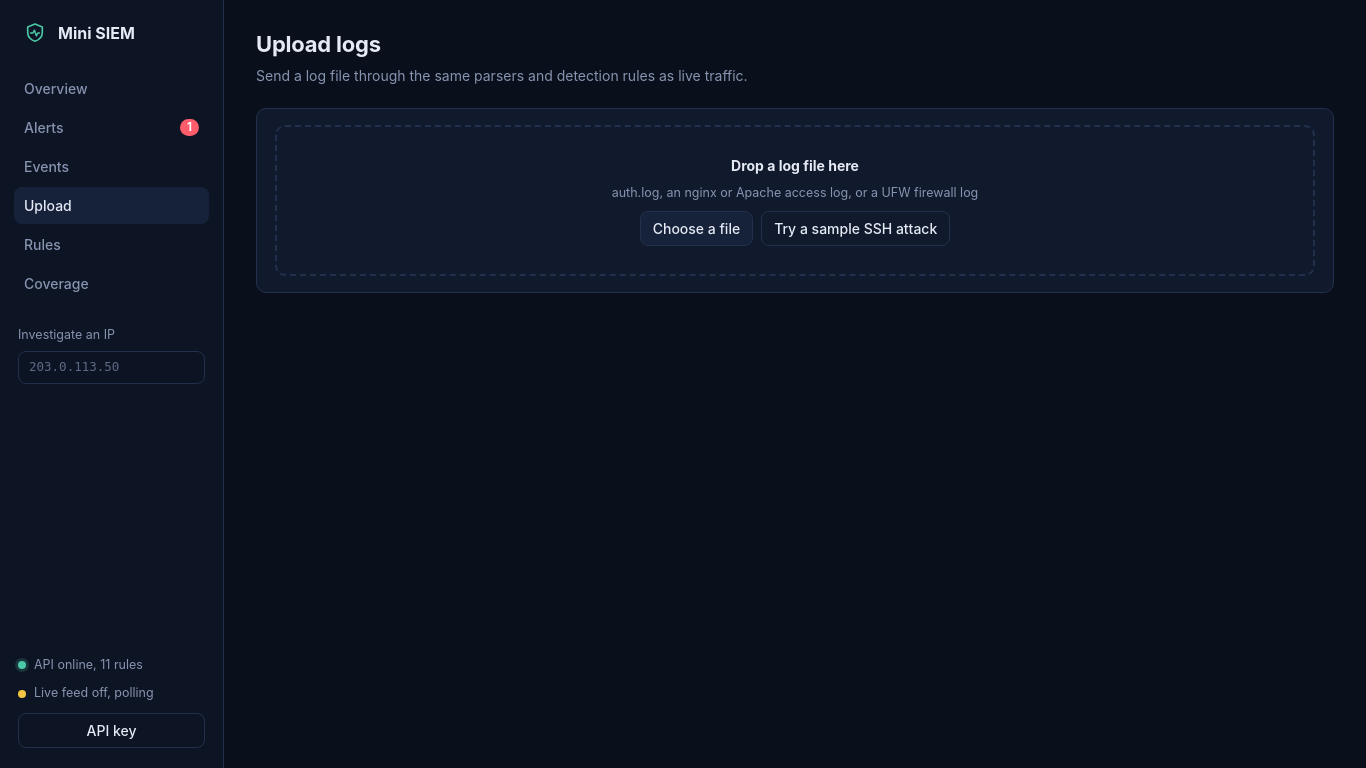
Test case: Upload › detects the format, uploads the file and reports what the rules found
The image size is (1366, 768).
Click the button "Try a sample SSH attack" at (856, 228), box [761, 211, 950, 246]
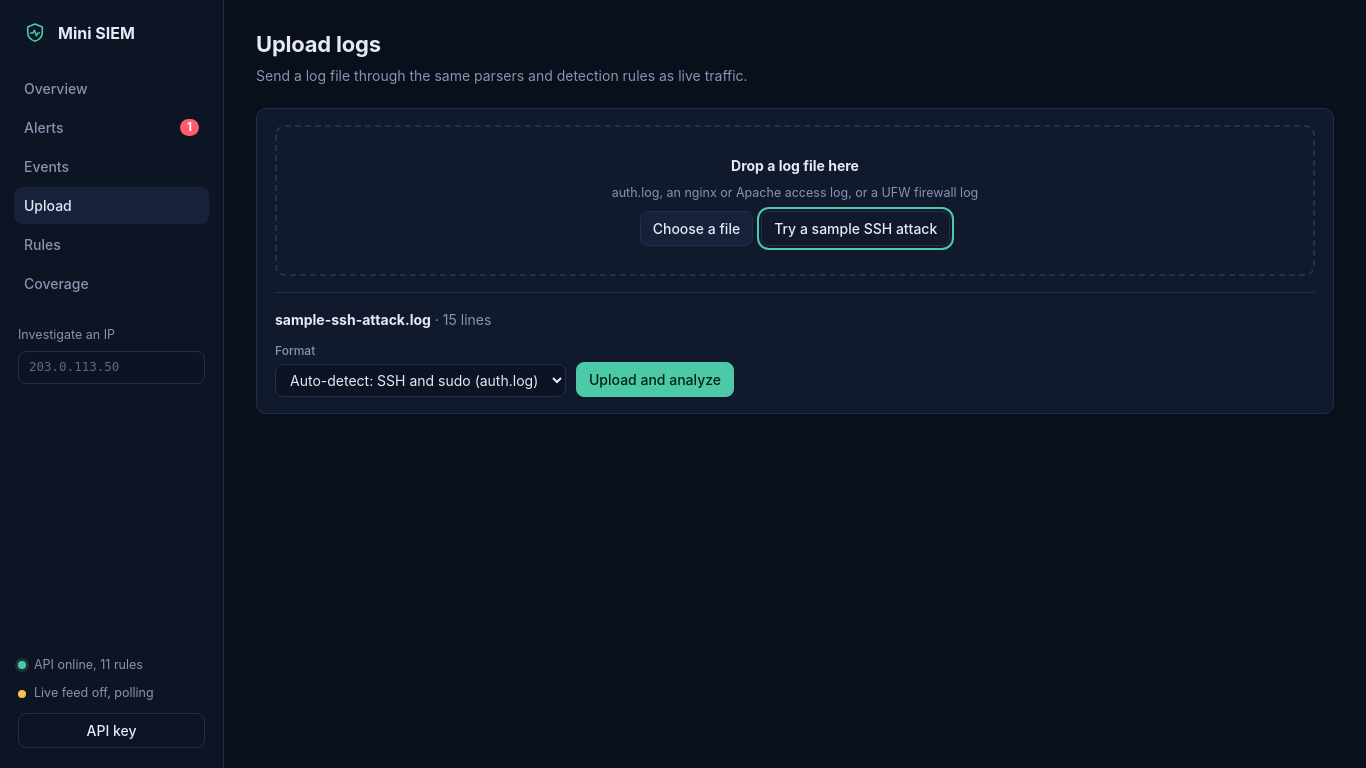
Click the button "Upload and analyze" at (655, 379), box [576, 362, 734, 397]
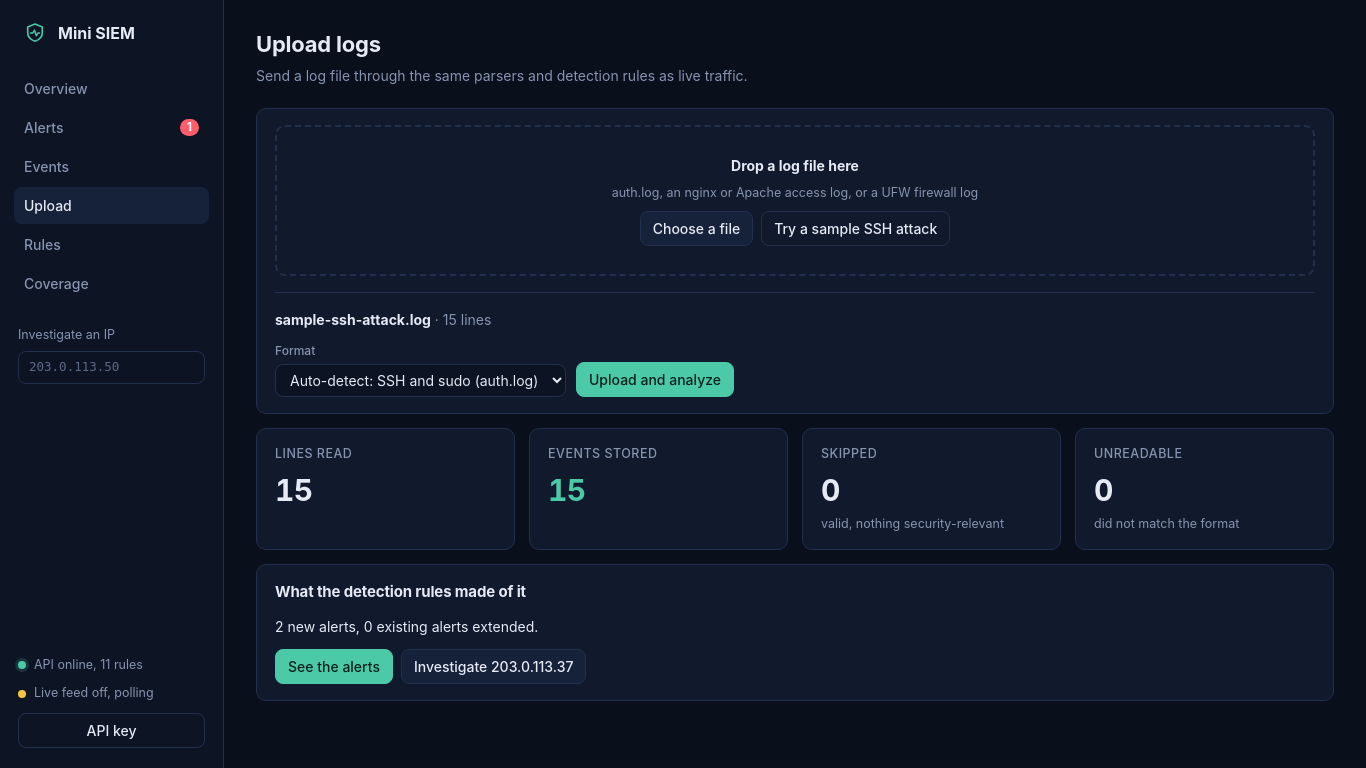
Result: the text "2 new alerts, 0 existing alerts extended." is shown at [275, 618, 538, 635]
